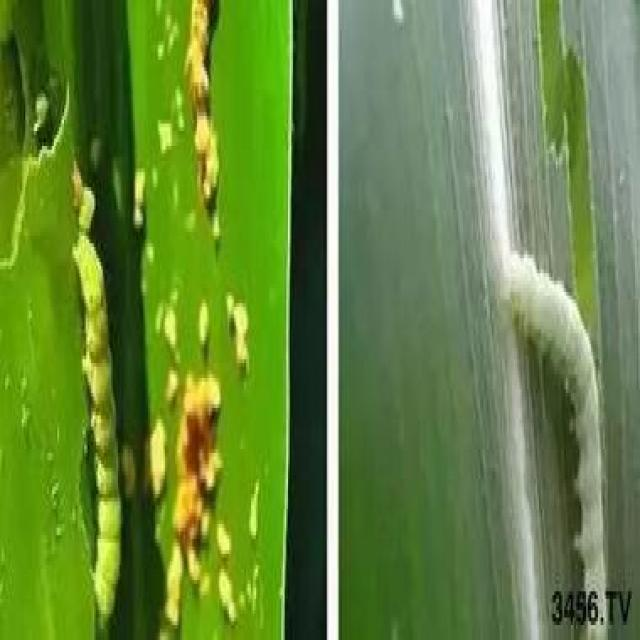BeetArmyWorm-Larva-: (498, 242, 620, 635), (67, 226, 126, 630)
